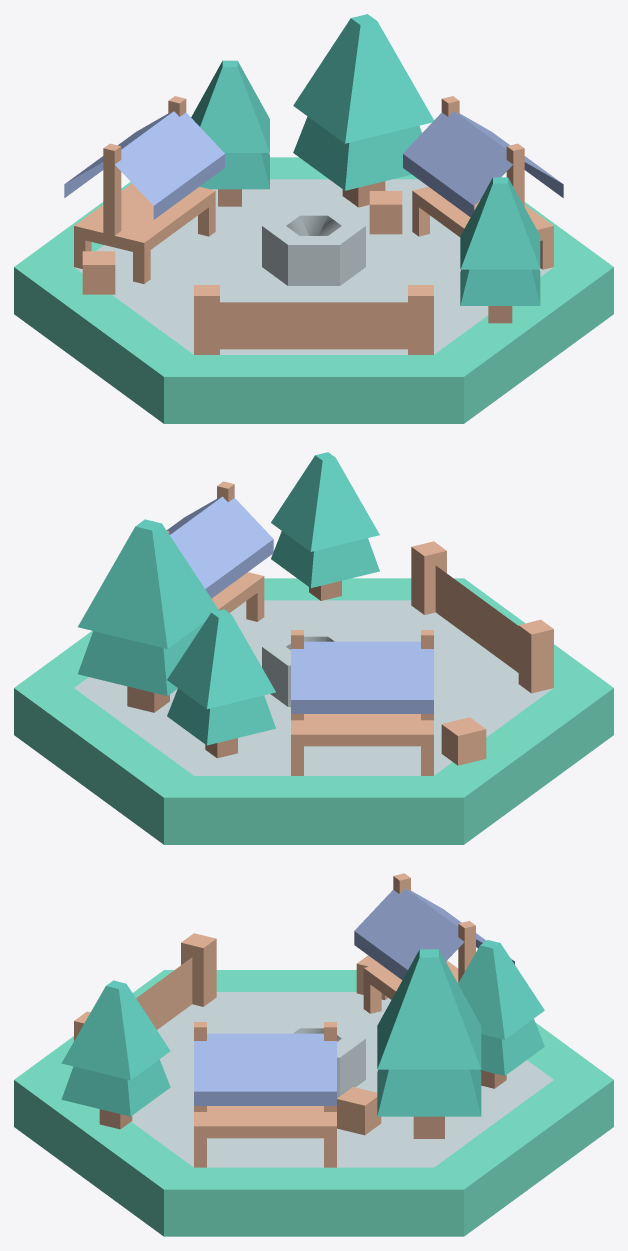
File: Plaza.fbx
3 renders of one model, top to bottom at view 1: azimuth 30°, elevation 25°; view 2: azimuth 150°, elevation 25°; view 3: azimuth 270°, elevation 25°, orthographic.
Parts seen in each view (by area): view 1: building_market; view 2: building_market; view 3: building_market.
Part boxes in pixels (x1,y1,x2,y2): building_market: (14,14,613,423); building_market: (14,452,613,844); building_market: (14,873,613,1236).
Bounding box in the file's own units: 100 × 48 × 115.
